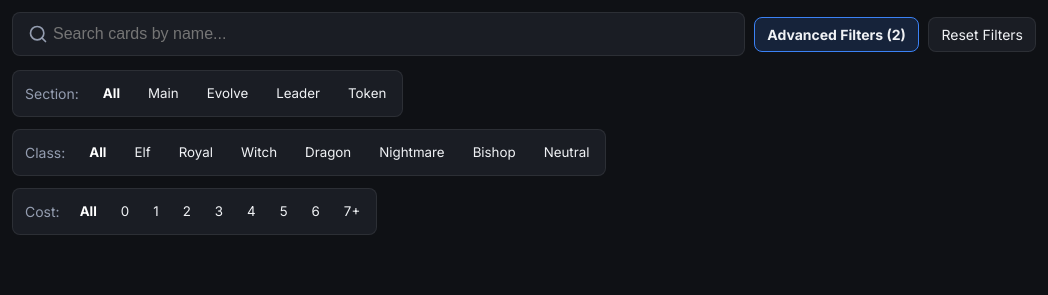
DeckBuilder responsive components › collapses advanced filters by default in compact mode and toggles them open with active count badge
Expected: the field with placeholder "Search cards by name..." is shown, [12,12,745,56]
Expected: the element named "Deck section filter" is shown, [12,70,403,117]
Click the button "Advanced Filters (2)": (837, 34) [754,16,919,52]
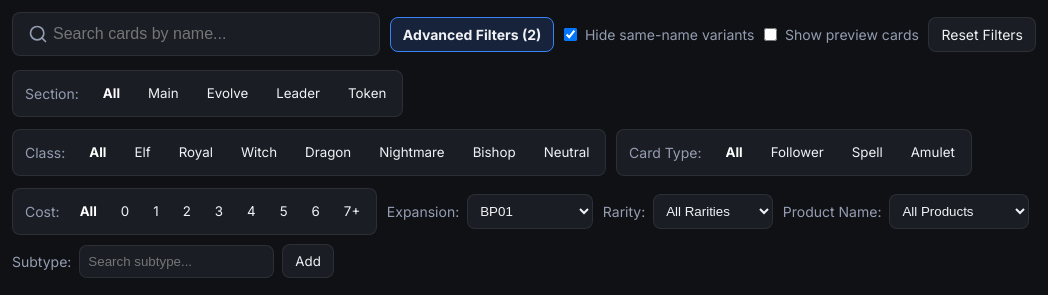
Expected: the button "Advanced Filters (2)" is expanded, [390,16,554,52]
Expected: the dropdown named "Expansion filter" is shown, [467,194,593,229]
Expected: the element named "Card type filter" is shown, [616,129,972,176]
